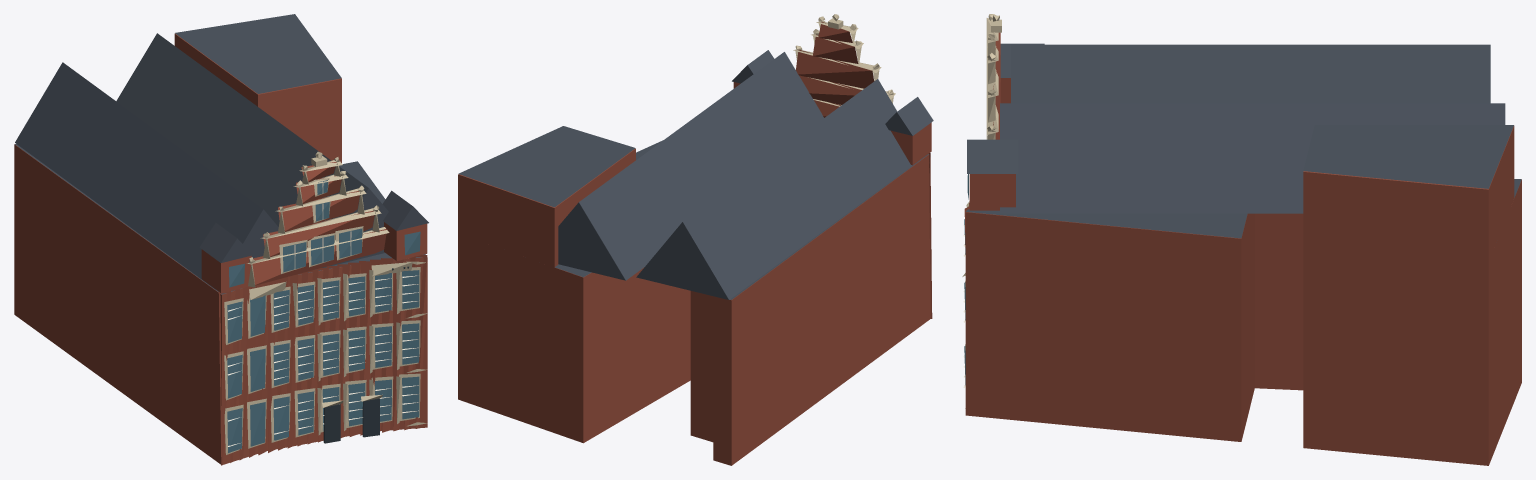
File: huis-bartolotti.lod1.glb
The picture shows the model from 3 angles, left to right: view 1: azimuth 30°, elevation 25°; view 2: azimuth 150°, elevation 25°; view 3: azimuth 270°, elevation 25°; orthographic projection. The views are drawn at different scales.
Parts seen in each view (by area): view 1: huis-bartolotti; view 2: huis-bartolotti; view 3: huis-bartolotti.
Boxes of the visible parts, <box> form: huis-bartolotti: <box>14,14,428,465</box>; huis-bartolotti: <box>458,14,933,465</box>; huis-bartolotti: <box>962,14,1521,465</box>.
Bounding box in the file's own units: 22.66 × 22.2 × 32.69.
